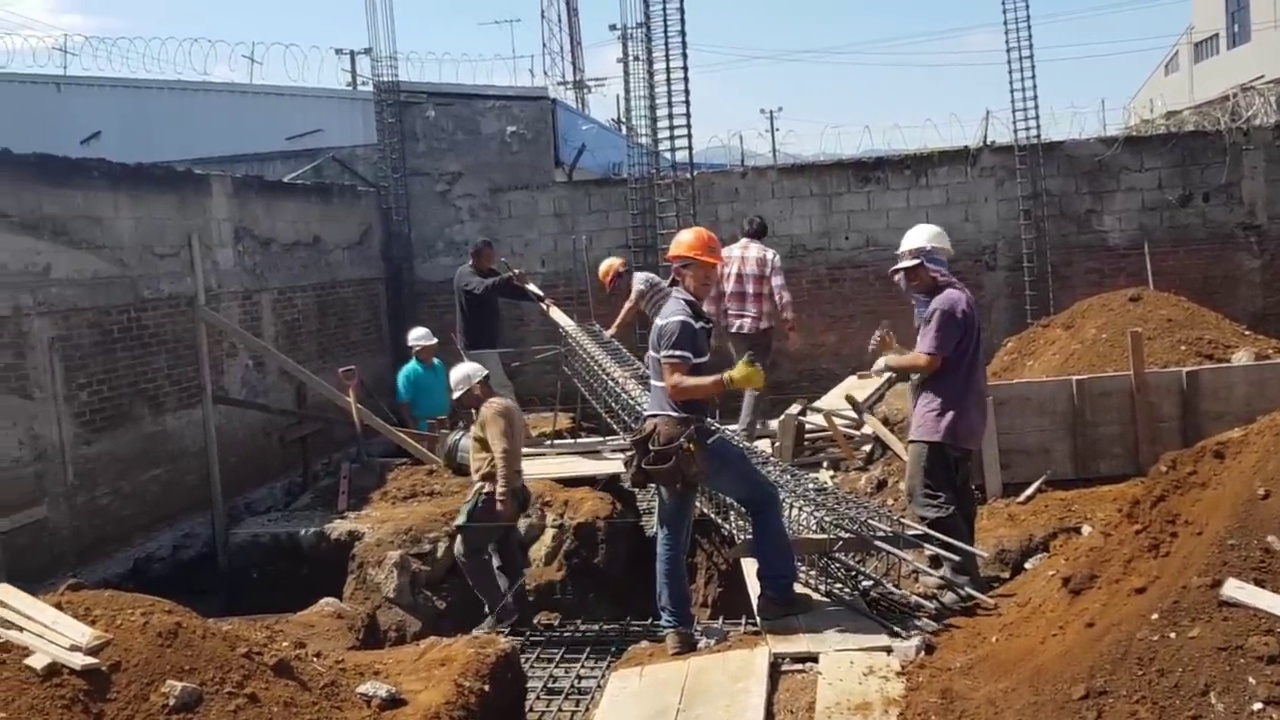helmet: (666, 224, 721, 265), (890, 224, 956, 256), (447, 360, 489, 402), (598, 258, 624, 294), (405, 325, 438, 347)
helmet-off: (405, 327, 438, 367), (735, 215, 770, 242), (465, 239, 496, 269)
helmet-on: (890, 224, 956, 295), (664, 228, 722, 300), (447, 360, 496, 412), (597, 259, 633, 300)
person: (633, 221, 791, 644), (875, 224, 983, 612), (449, 360, 536, 636), (720, 215, 795, 442), (452, 241, 548, 401), (395, 326, 452, 434), (596, 259, 671, 339)
